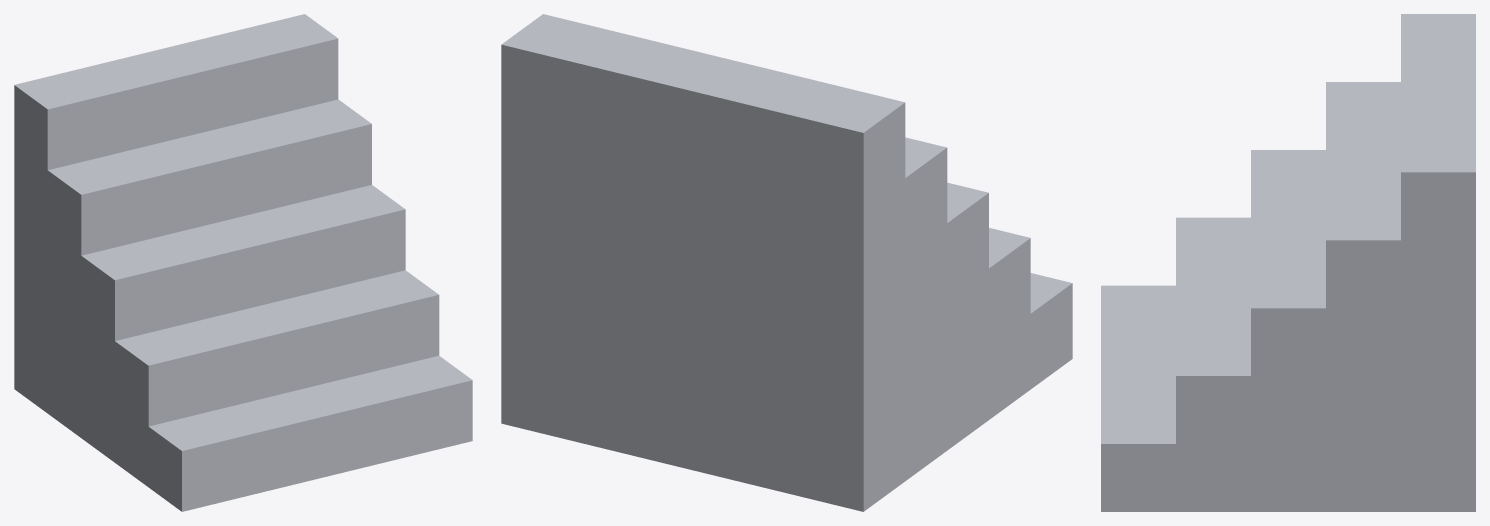
The model's file is A3D_sample_stairs_full.fbx.
The picture shows the model from 3 angles, left to right: view 1: azimuth 30°, elevation 25°; view 2: azimuth 150°, elevation 25°; view 3: azimuth 270°, elevation 25°; orthographic projection. The views are drawn at different scales.
Parts seen in each view (by area): view 1: castle_stairs_lean_1; view 2: castle_stairs_lean_1; view 3: castle_stairs_lean_1.
Boxes of the visible parts, box(x1,y1,x2,y2) form: castle_stairs_lean_1: box(14, 14, 472, 511); castle_stairs_lean_1: box(501, 14, 1072, 511); castle_stairs_lean_1: box(1101, 14, 1475, 511).
Bounding box in the file's own units: 10 × 10 × 10.
